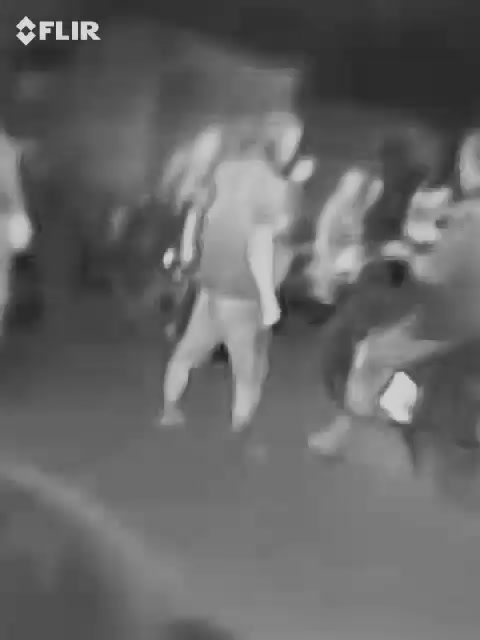head: (247, 110, 308, 177)
